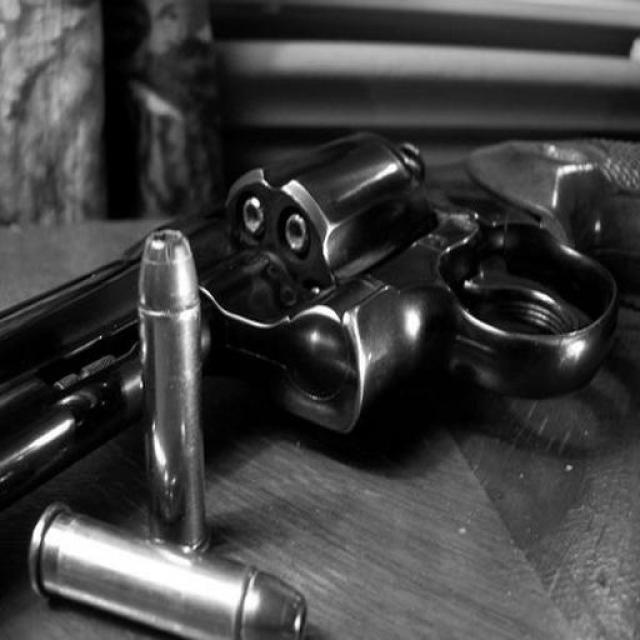pistol: (1, 122, 640, 516)
